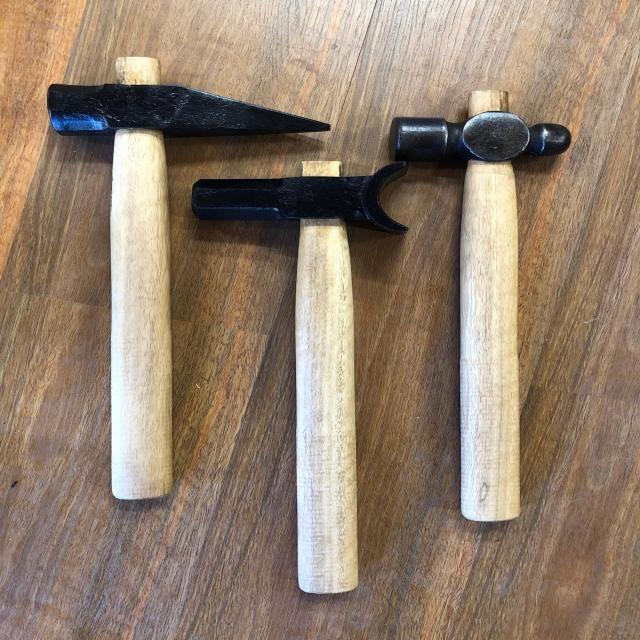hammer: (31, 50, 336, 508), (376, 75, 574, 562), (188, 155, 394, 620)
